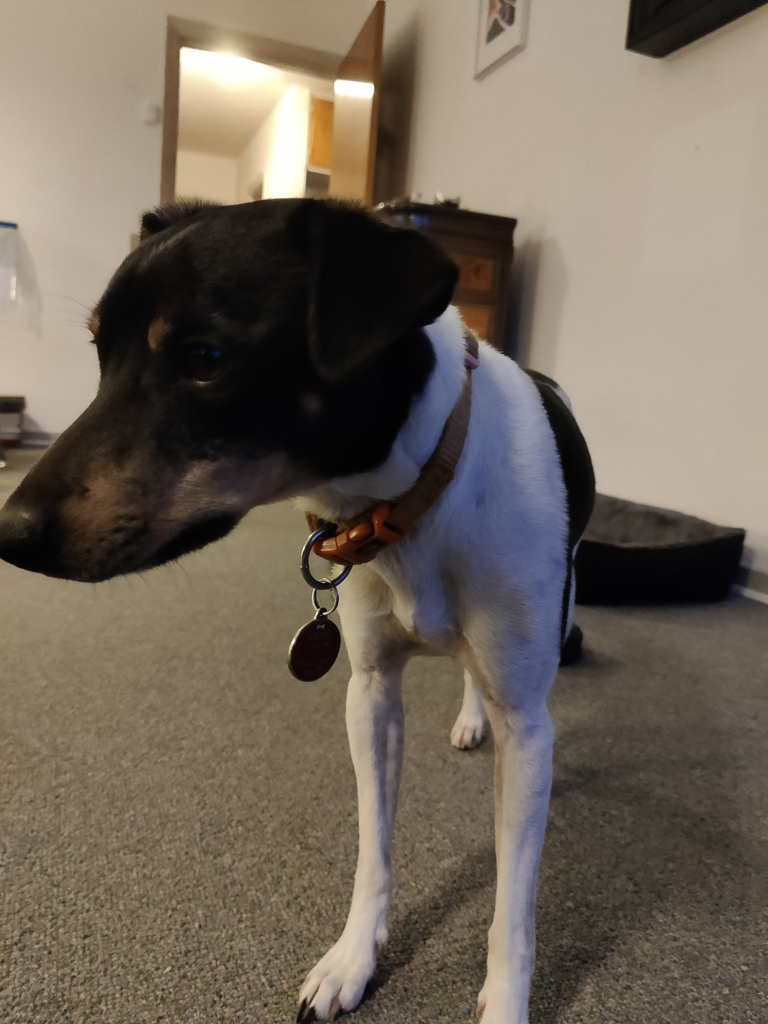Dog: (0, 179, 609, 1024)
